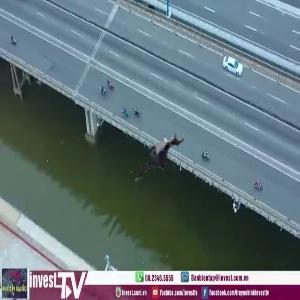drone: (127, 125, 194, 192)
